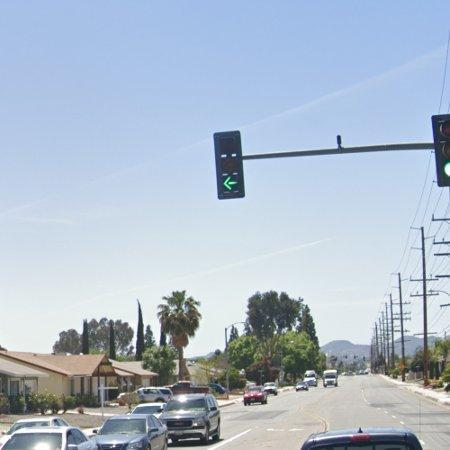traffic lights: (212, 130, 246, 201)
